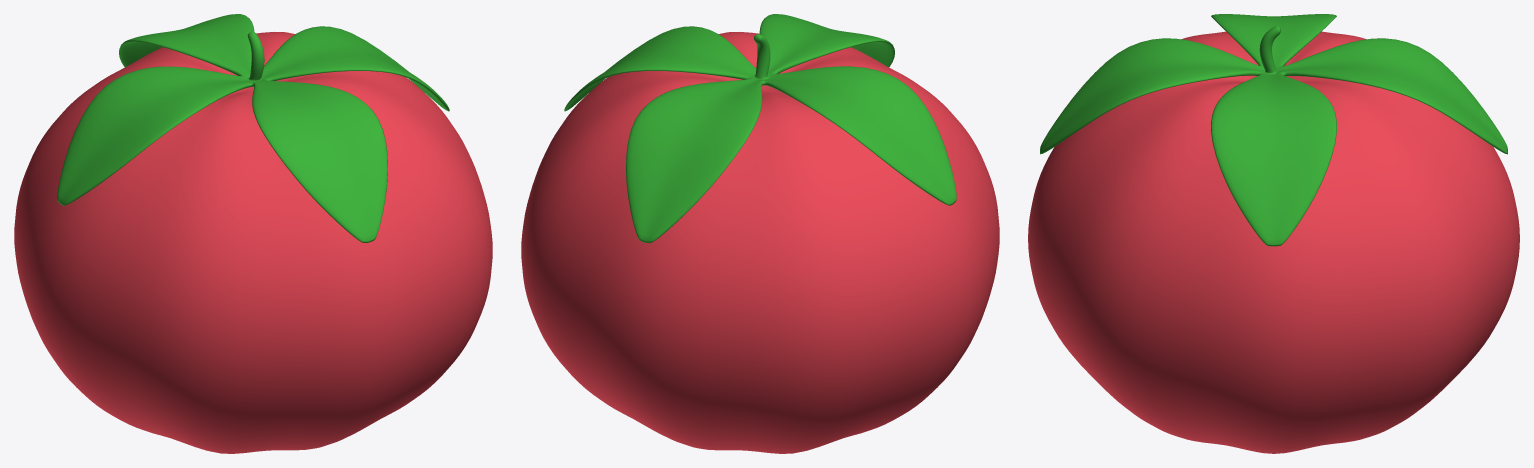
Rendered from tomato.fbx.
3 renders of one model, left to right at view 1: azimuth 30°, elevation 25°; view 2: azimuth 150°, elevation 25°; view 3: azimuth 270°, elevation 25°, orthographic.
Visible parts, largest first — view 1: Tomato.006, Tomato_Leaves.001; view 2: Tomato.006, Tomato_Leaves.001; view 3: Tomato.006, Tomato_Leaves.001.
Part boxes in pixels (bbox=[...]): Tomato.006: bbox=[14, 32, 492, 453]; Tomato_Leaves.001: bbox=[57, 14, 449, 242]; Tomato.006: bbox=[521, 32, 999, 453]; Tomato_Leaves.001: bbox=[564, 14, 956, 242]; Tomato.006: bbox=[1028, 31, 1519, 453]; Tomato_Leaves.001: bbox=[1040, 14, 1507, 246].
Size of the model in its own units: 186 by 161 by 186.
